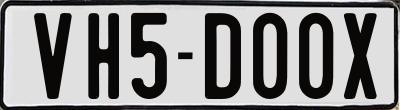0: (251, 12, 291, 100), (299, 11, 335, 103)
5: (131, 13, 172, 104)
D: (204, 10, 246, 96)
H: (87, 11, 121, 99)
V: (31, 11, 71, 100)
X: (343, 10, 379, 99)
